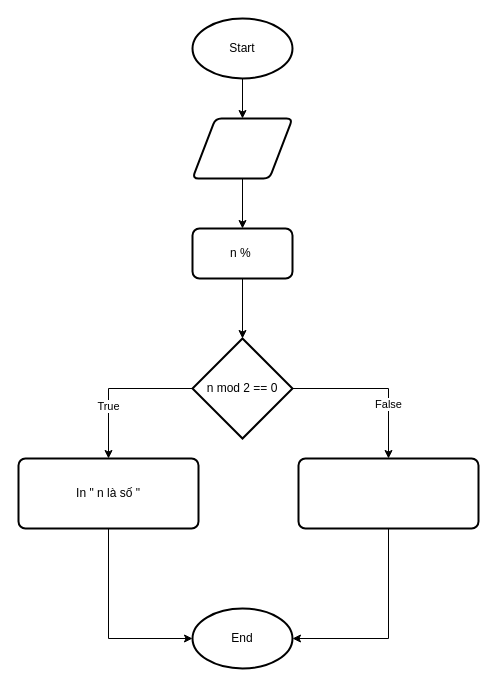
Image size: 496x686. Some labels were removed from this diagram. The shapes that lost their labels are listed below. From the top down, each one's centre as x and y in pixels, then its label:
(x=242, y=148): nhập n
(x=388, y=493): In " n là số lẻ "
